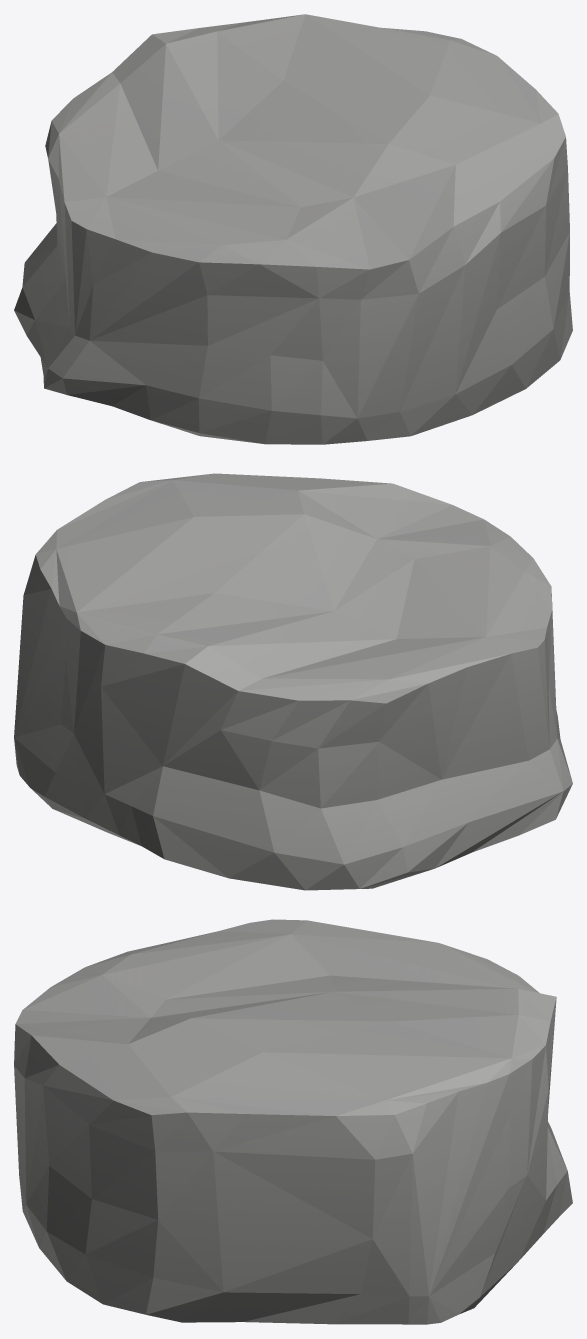
The model's file is Cavern_Step_Lrg-01.fbx.
The picture shows the model from 3 angles, top to bottom: view 1: azimuth 30°, elevation 25°; view 2: azimuth 150°, elevation 25°; view 3: azimuth 270°, elevation 25°; orthographic projection. The views are drawn at different scales.
Visible parts, largest first — view 1: Cavern_Step_Lrg-01; view 2: Cavern_Step_Lrg-01; view 3: Cavern_Step_Lrg-01.
Part boxes in pixels (x1,y1,x2,y2): Cavern_Step_Lrg-01: [14, 14, 572, 444]; Cavern_Step_Lrg-01: [14, 473, 572, 890]; Cavern_Step_Lrg-01: [14, 919, 572, 1324].
Size of the model in its own units: 759 by 350 by 736.
Materials: 1 (1 with a texture image).
